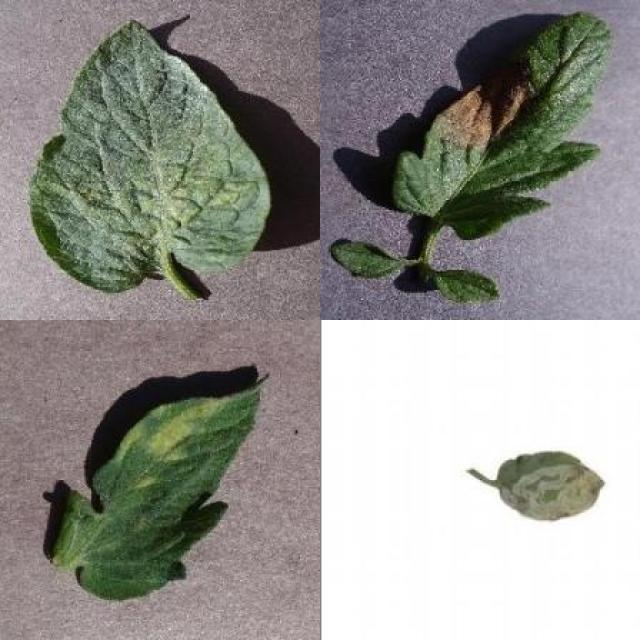Late Blight: (395, 10, 612, 240)
Leaf Miner: (494, 454, 605, 525)
Leaf Mold: (53, 386, 260, 601)
Spider Mites: (28, 17, 272, 293)
